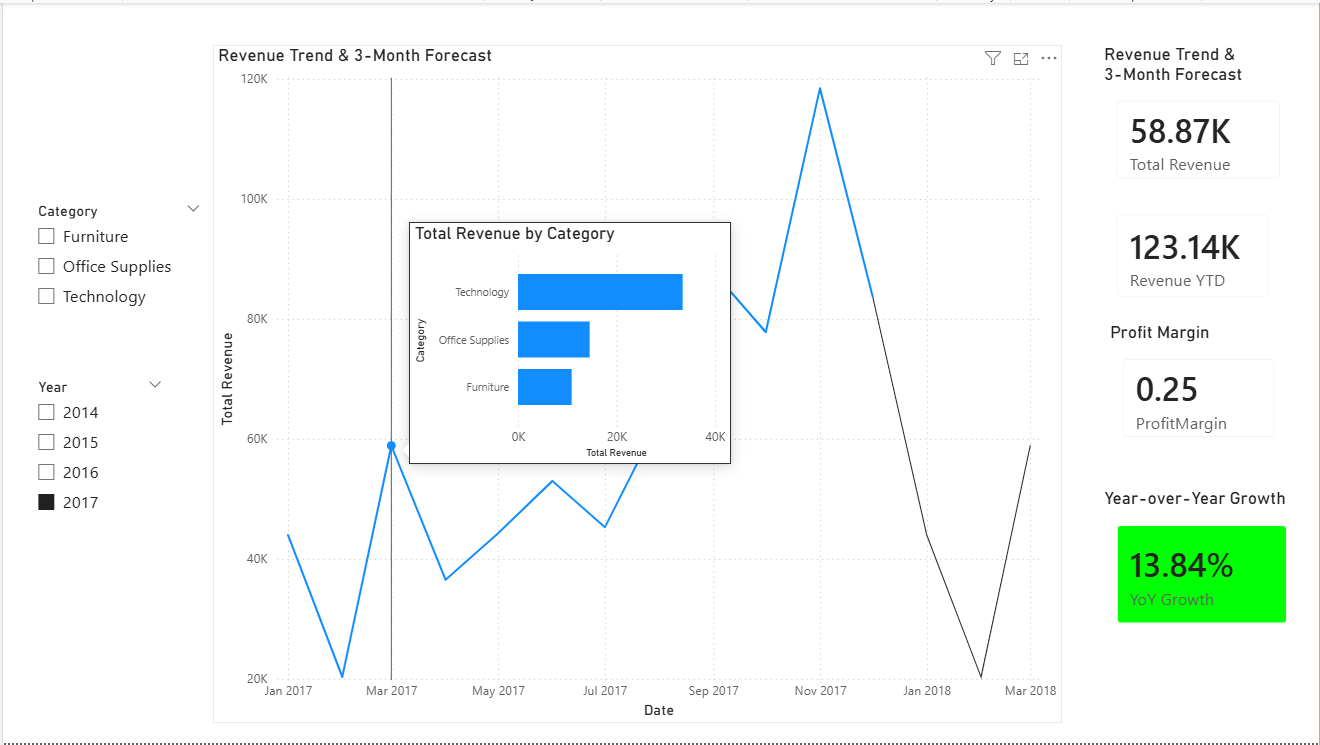

Layout of this report page (visuals, bound fields, positions):
{"tool":"powerbi","page":{"name":"Page 1","canvas":[1280,720],"ordinal":0},"visuals":[{"type":"lineChart","title":"Revenue Trend & 3-Month Forecast","fields":{"Y":["vw_SalesForecast.Total Revenue"],"Category":["DateTable.Date"]},"box":[204.3,40.9,825.8,659.5],"z":0},{"type":"slicer","fields":{"Values":["vw_SalesForecast.Category"]},"box":[21.4,188.6,182.9,121.4],"z":1000},{"type":"cardVisual","title":"Revenue Trend & 3-Month Forecast","fields":{"Data":["vw_SalesForecast.Total Revenue"]},"box":[1066,39.9,193.6,148.8],"z":2000},{"type":"cardVisual","title":"Year-over-Year Growth","fields":{"Data":["vw_SalesForecast.YoY Growth"]},"box":[1066,471.7,200.4,149.8],"z":3000},{"type":"slicer","fields":{"Values":["DateTable.Year"]},"box":[21.4,360,145.7,150],"z":4000},{"type":"cardVisual","title":"Profit Margin","fields":{"Data":["vw_SalesForecast.ProfitMargin"]},"box":[1071.9,310.3,182.9,129.4],"z":5000},{"type":"cardVisual","fields":{"Data":["vw_SalesForecast.Sales_YTD"]},"box":[1066,188.7,182.9,114.8],"z":6000}]}

Visuals, with their boxes in screenshot pixels (x1, y1, x2, y2), scaled from the page's 1280x720 canvas onto the 1320x745 screenshot:
"Revenue Trend & 3-Month Forecast" lineChart: {"left": 211, "top": 42, "right": 1062, "bottom": 725}
slicer - vw_SalesForecast.Category: {"left": 22, "top": 195, "right": 211, "bottom": 321}
"Revenue Trend & 3-Month Forecast" cardVisual: {"left": 1099, "top": 41, "right": 1299, "bottom": 195}
"Year-over-Year Growth" cardVisual: {"left": 1099, "top": 488, "right": 1306, "bottom": 643}
slicer - DateTable.Year: {"left": 22, "top": 373, "right": 172, "bottom": 528}
"Profit Margin" cardVisual: {"left": 1105, "top": 321, "right": 1294, "bottom": 455}
cardVisual - vw_SalesForecast.Sales_YTD: {"left": 1099, "top": 195, "right": 1288, "bottom": 314}
